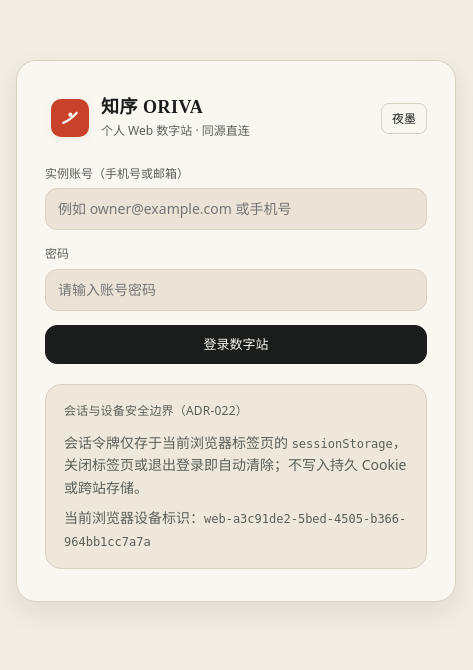
Test: Core views: XSS neutralization, 1409 conflict reload/merge, and B5 trust copy › displays deployment rate-limit guidance on LoginPage
Type "owner@example.com" into the field named "account" at (236, 209), box [45,188,427,230]
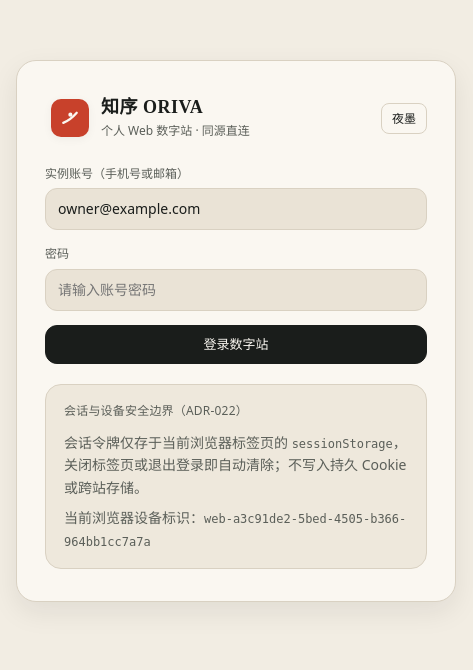
Type "wrong" into the password field named "password" at (236, 290), box [45,269,427,311]
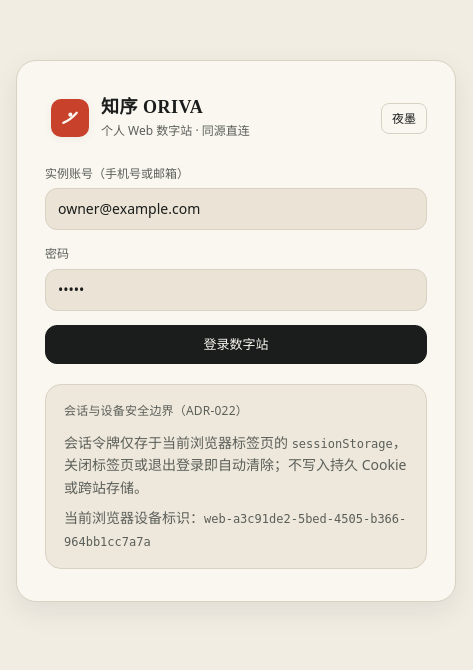
Submit the form, box [45,164,427,364]
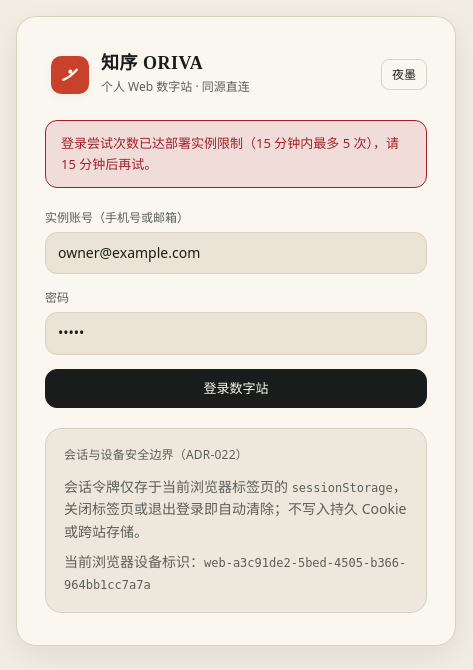
Expected: the text "15 分钟内最多 5 次" is shown, [61,134,399,173]
